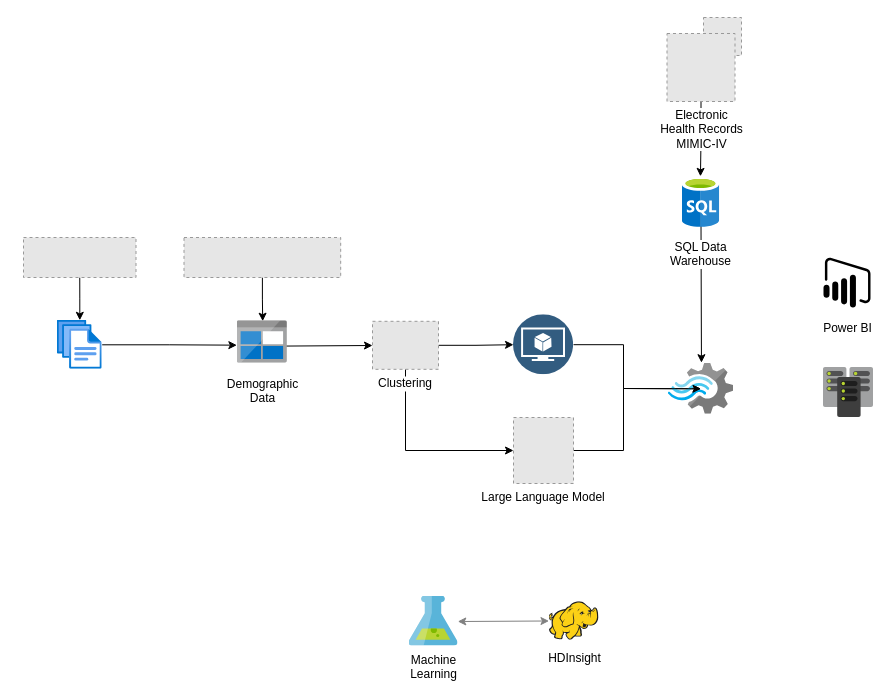
The diagram is 896 pixels wide and 699 high, and some of its shapes have lost their labels. Grey dashed boxes stand in for pictures. Each missing label, with the centre of its shape:
Diagrnostic Events: point (848, 392)
Machine Learning Model: point (543, 344)
Predictive Analytics: point (700, 388)
Randomized clinical trial publications: point (79, 344)
